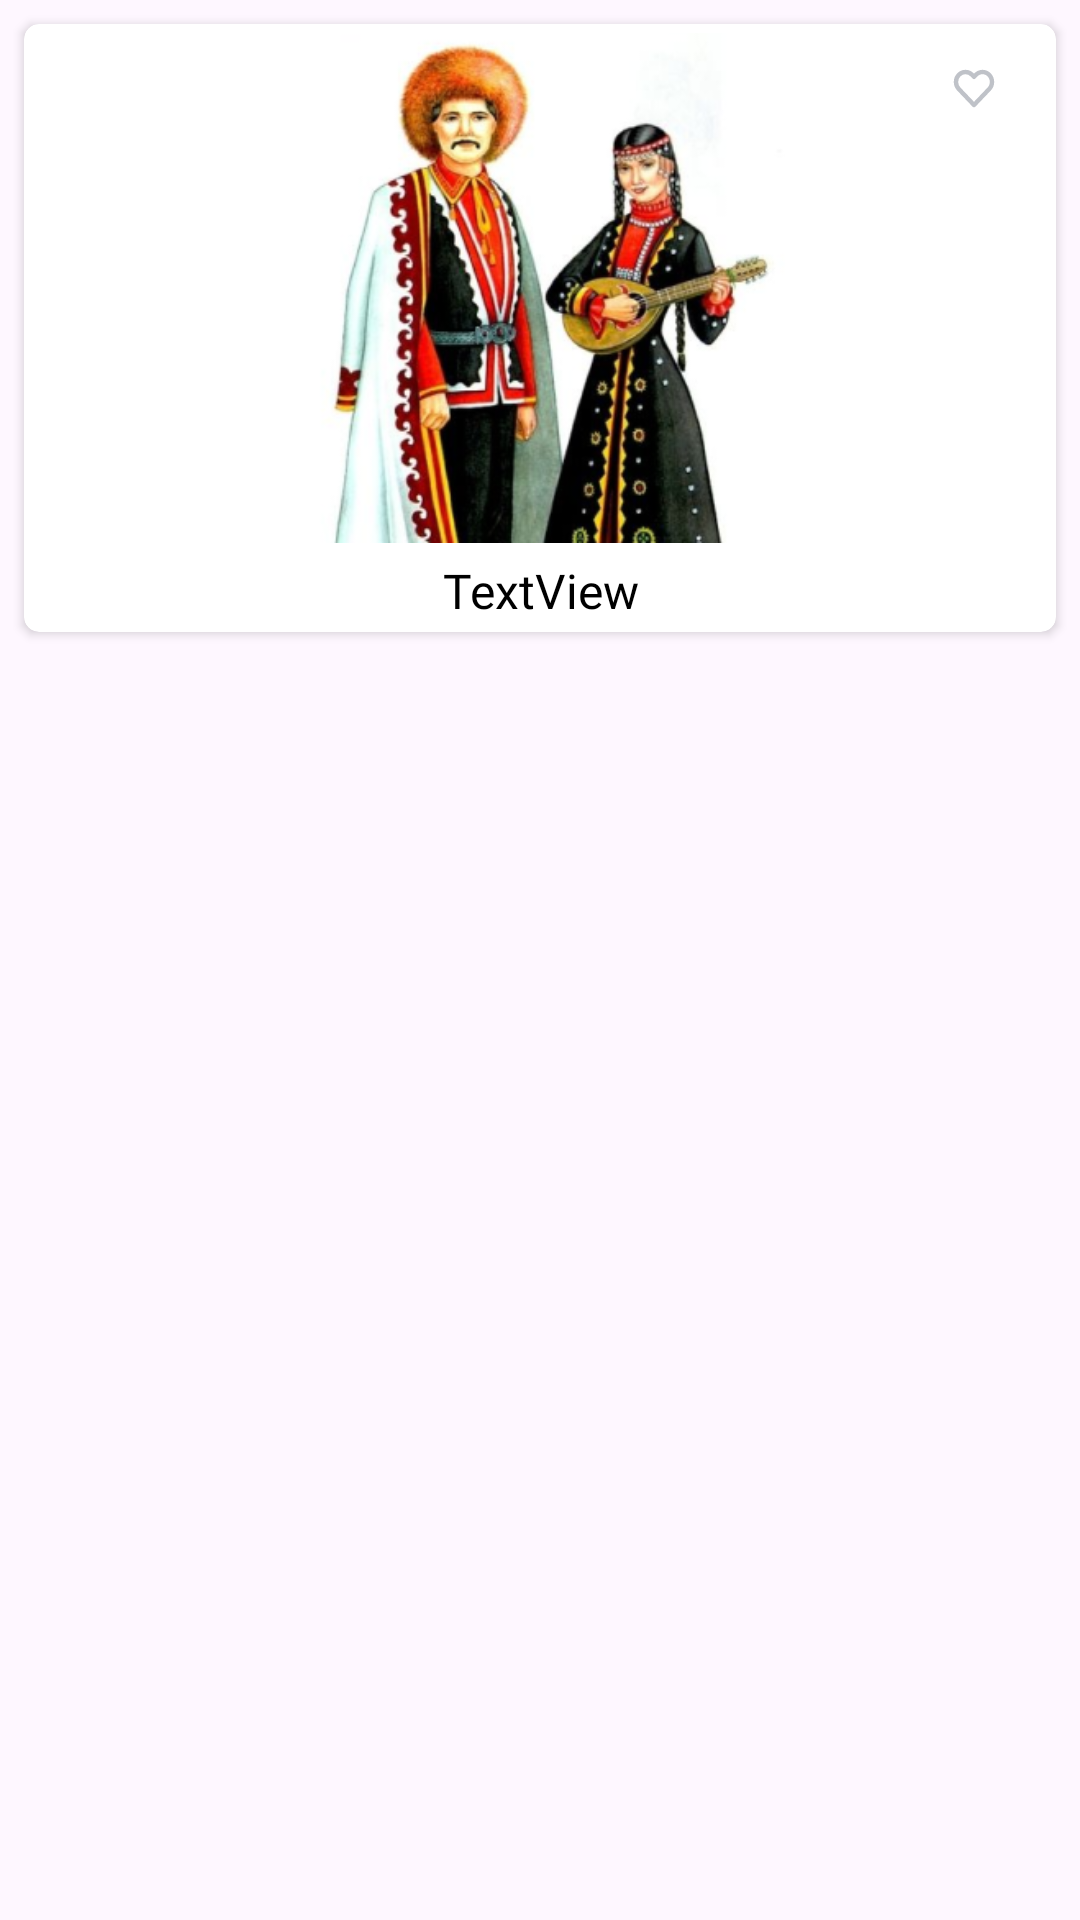

Icon bounding boxes for this 1080×1920 phone screenshot, format box(x1, y1, x2, y2):
favorite inact: box(954, 70, 994, 107)
